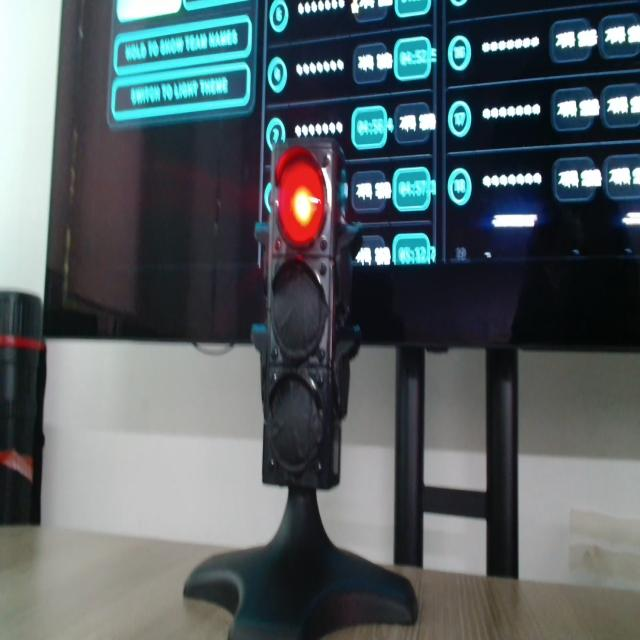red_light: (277, 149, 325, 247)
